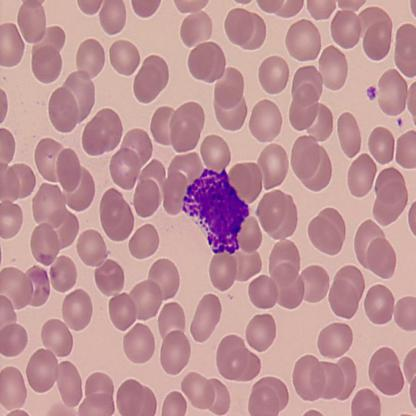Basophil: (180, 163, 250, 259)
